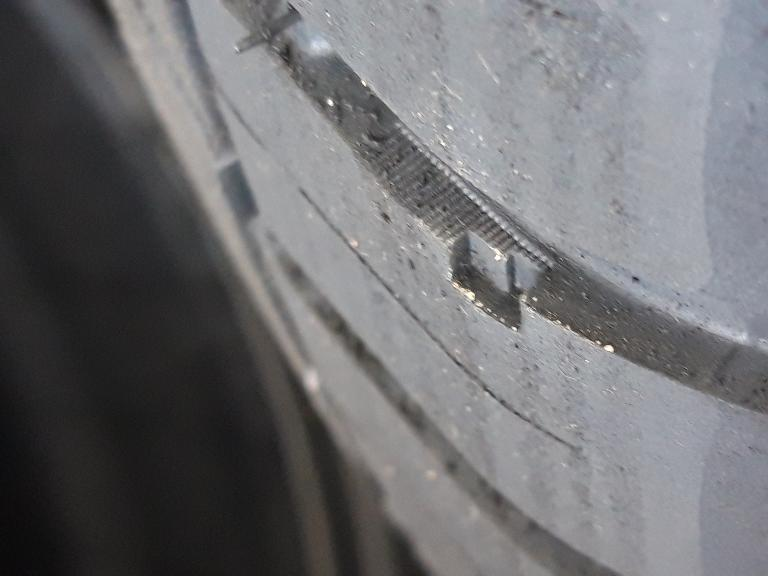temoin:50: (410, 189, 563, 342)
